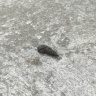Dog: (37, 45, 59, 57)
